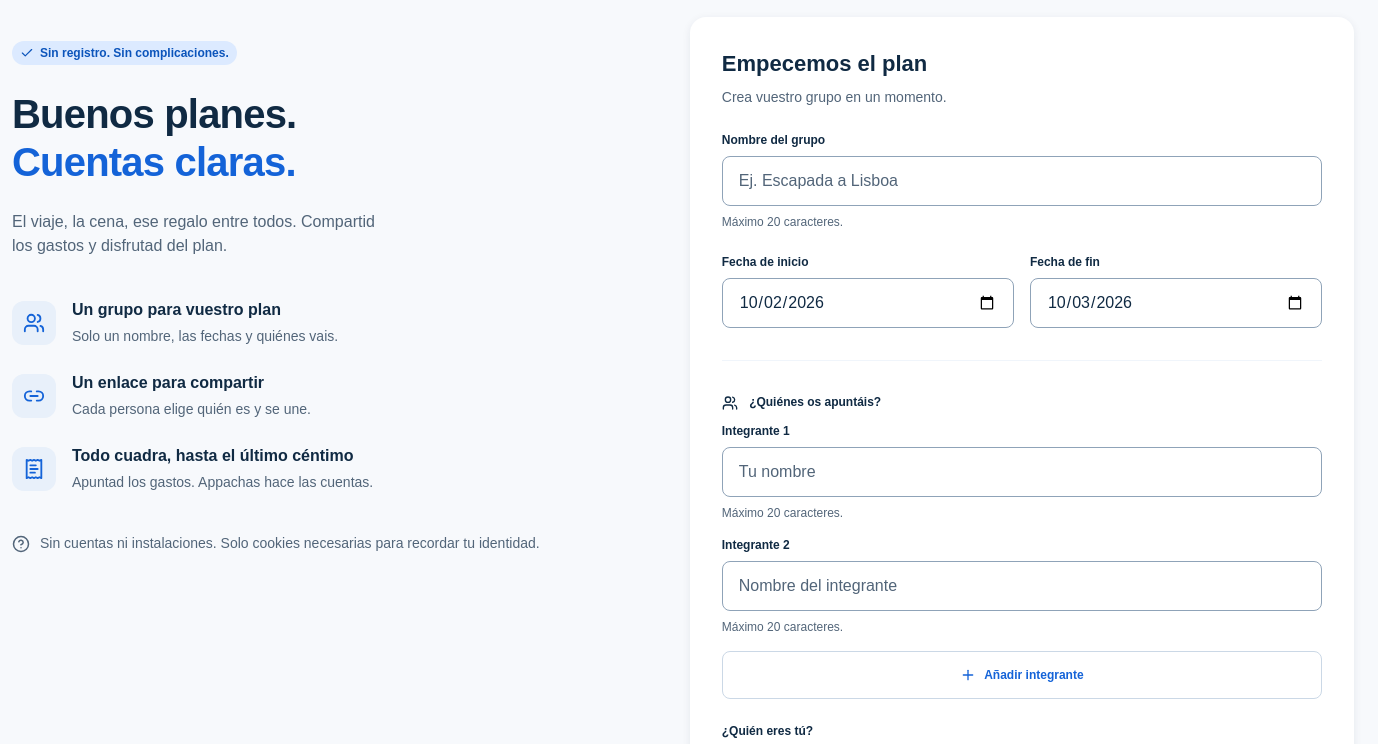
Scenario: group creation › rejects duplicate aliases ignoring case and surrounding spaces before submitting
Step 1. Type "Viaje" into the field labelled "Nombre del grupo" → point(1022, 181), box [722,156,1322,206]
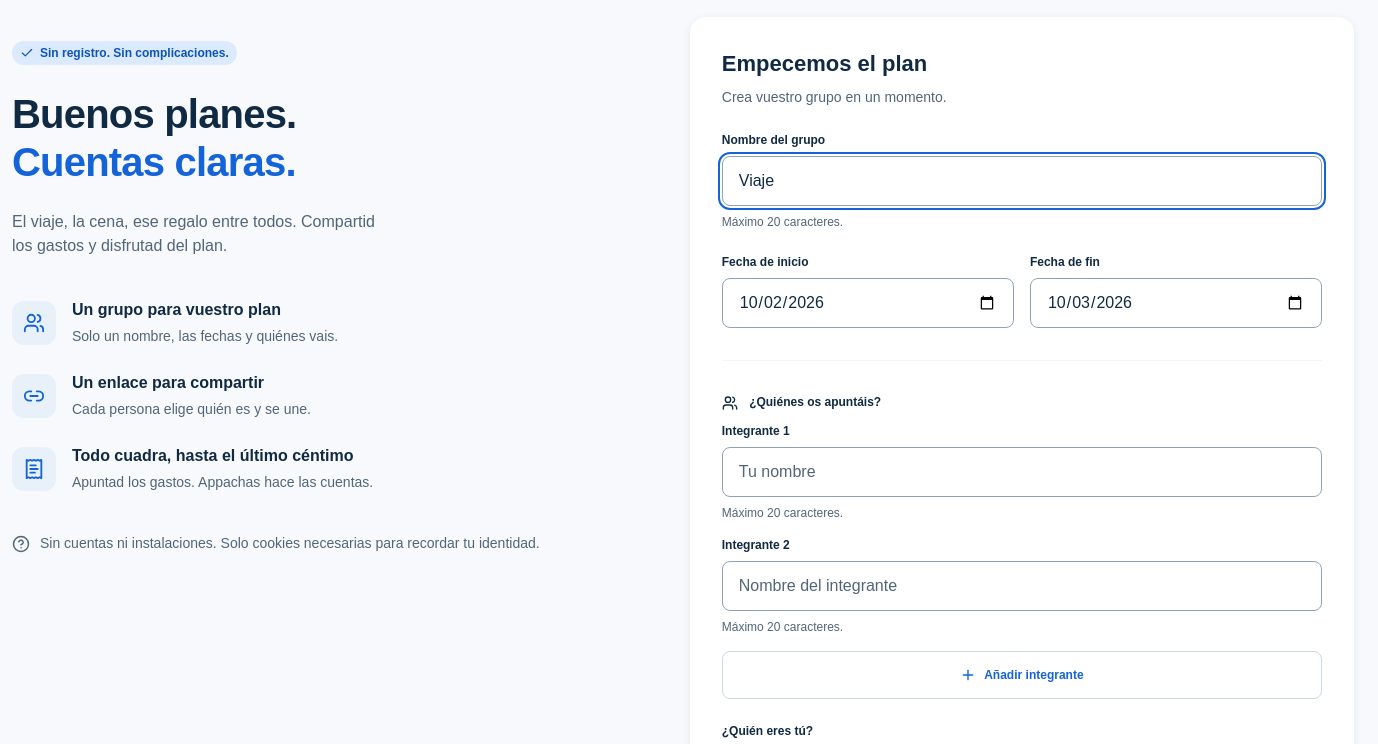
Step 2. Type "Ana" into the field labelled "Integrante 1" → point(1022, 472), box [722,447,1322,497]
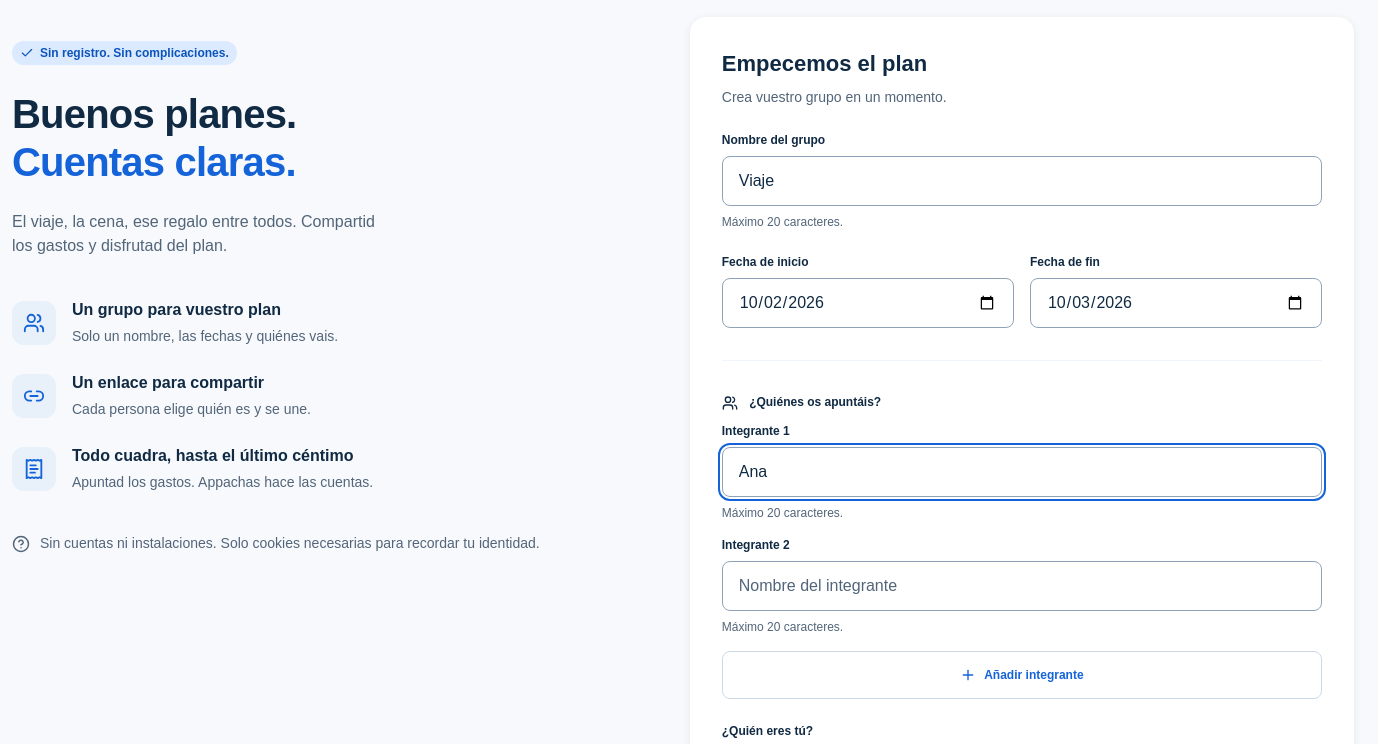
Step 3. Type " ANA " into the field labelled "Integrante 2" → point(1022, 586), box [722,561,1322,611]
(page scrolled)
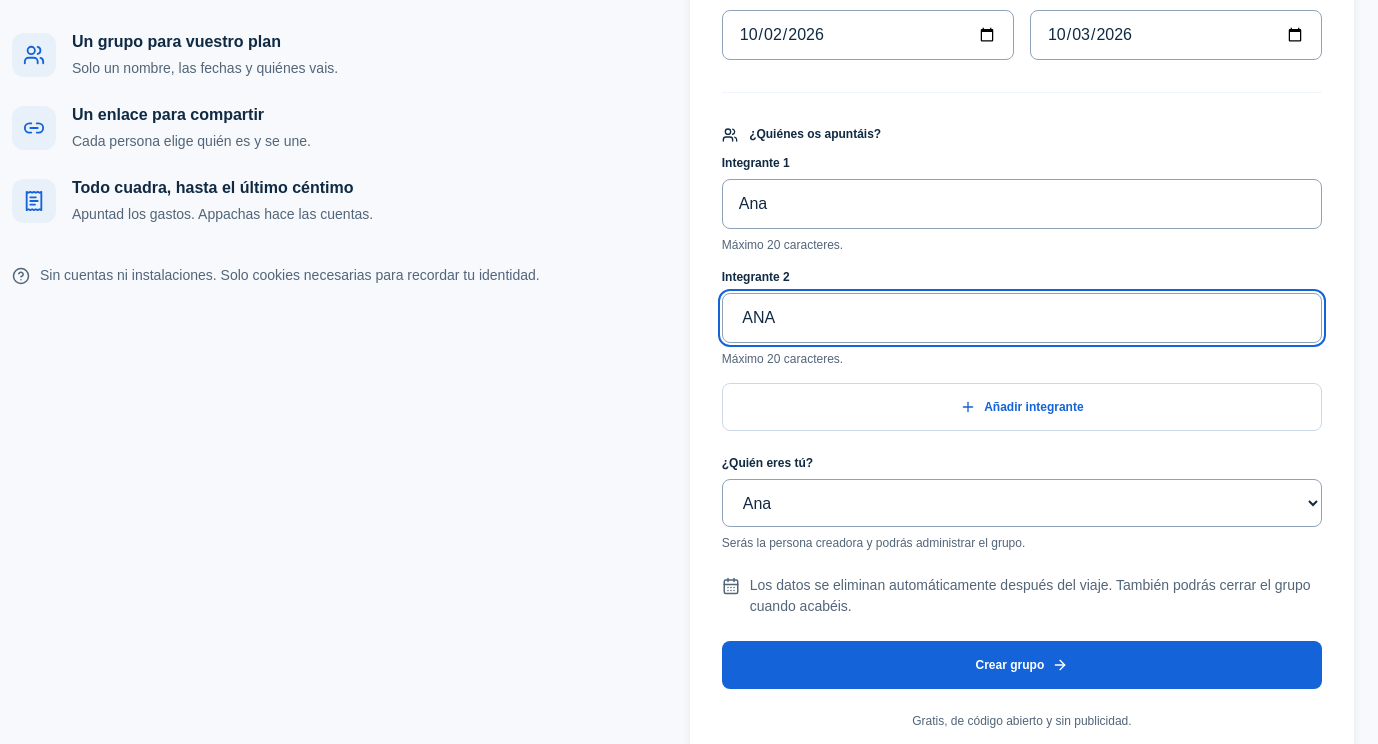
Act / When
Step 4. Click the button "Crear grupo" → point(1022, 665), box [722,641,1322,689]
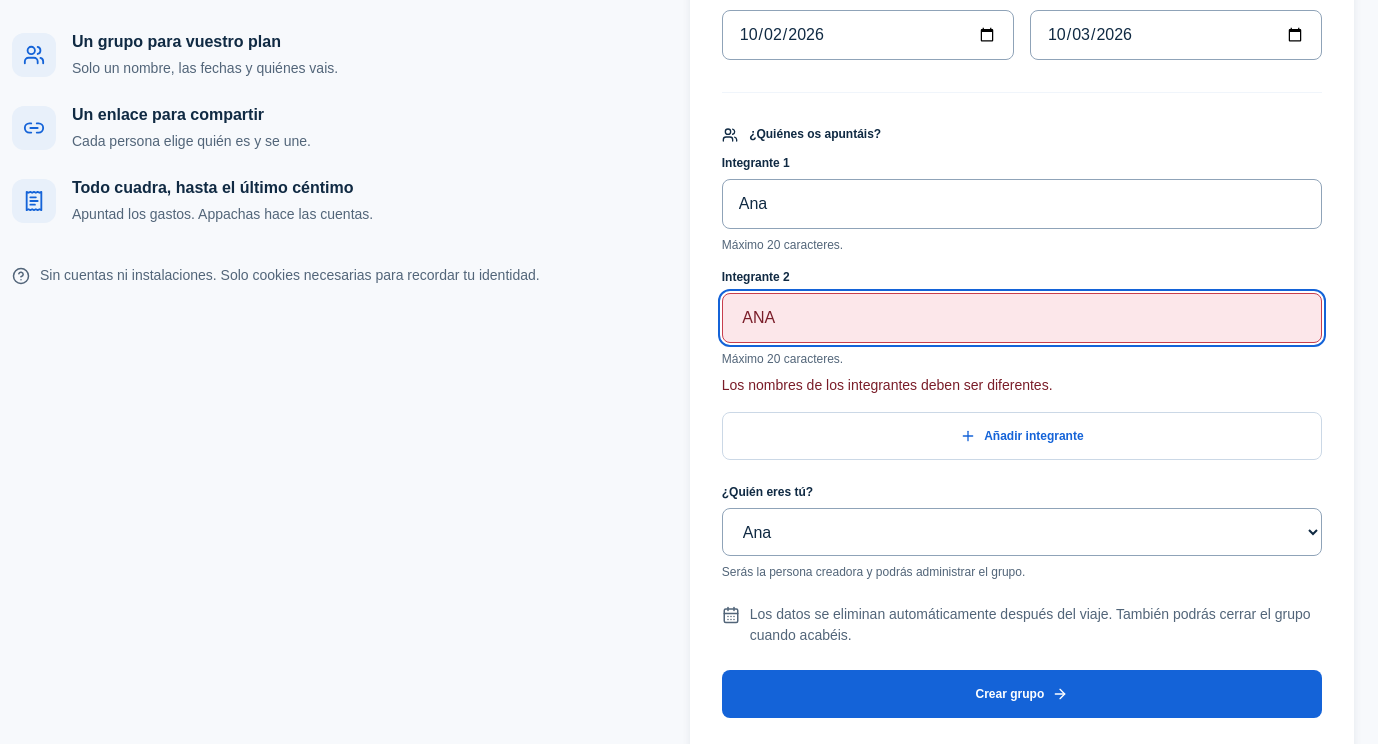
expect the message reads "Los nombres de los integrantes deben ser diferentes.": met, box [722,377,1053,393]
